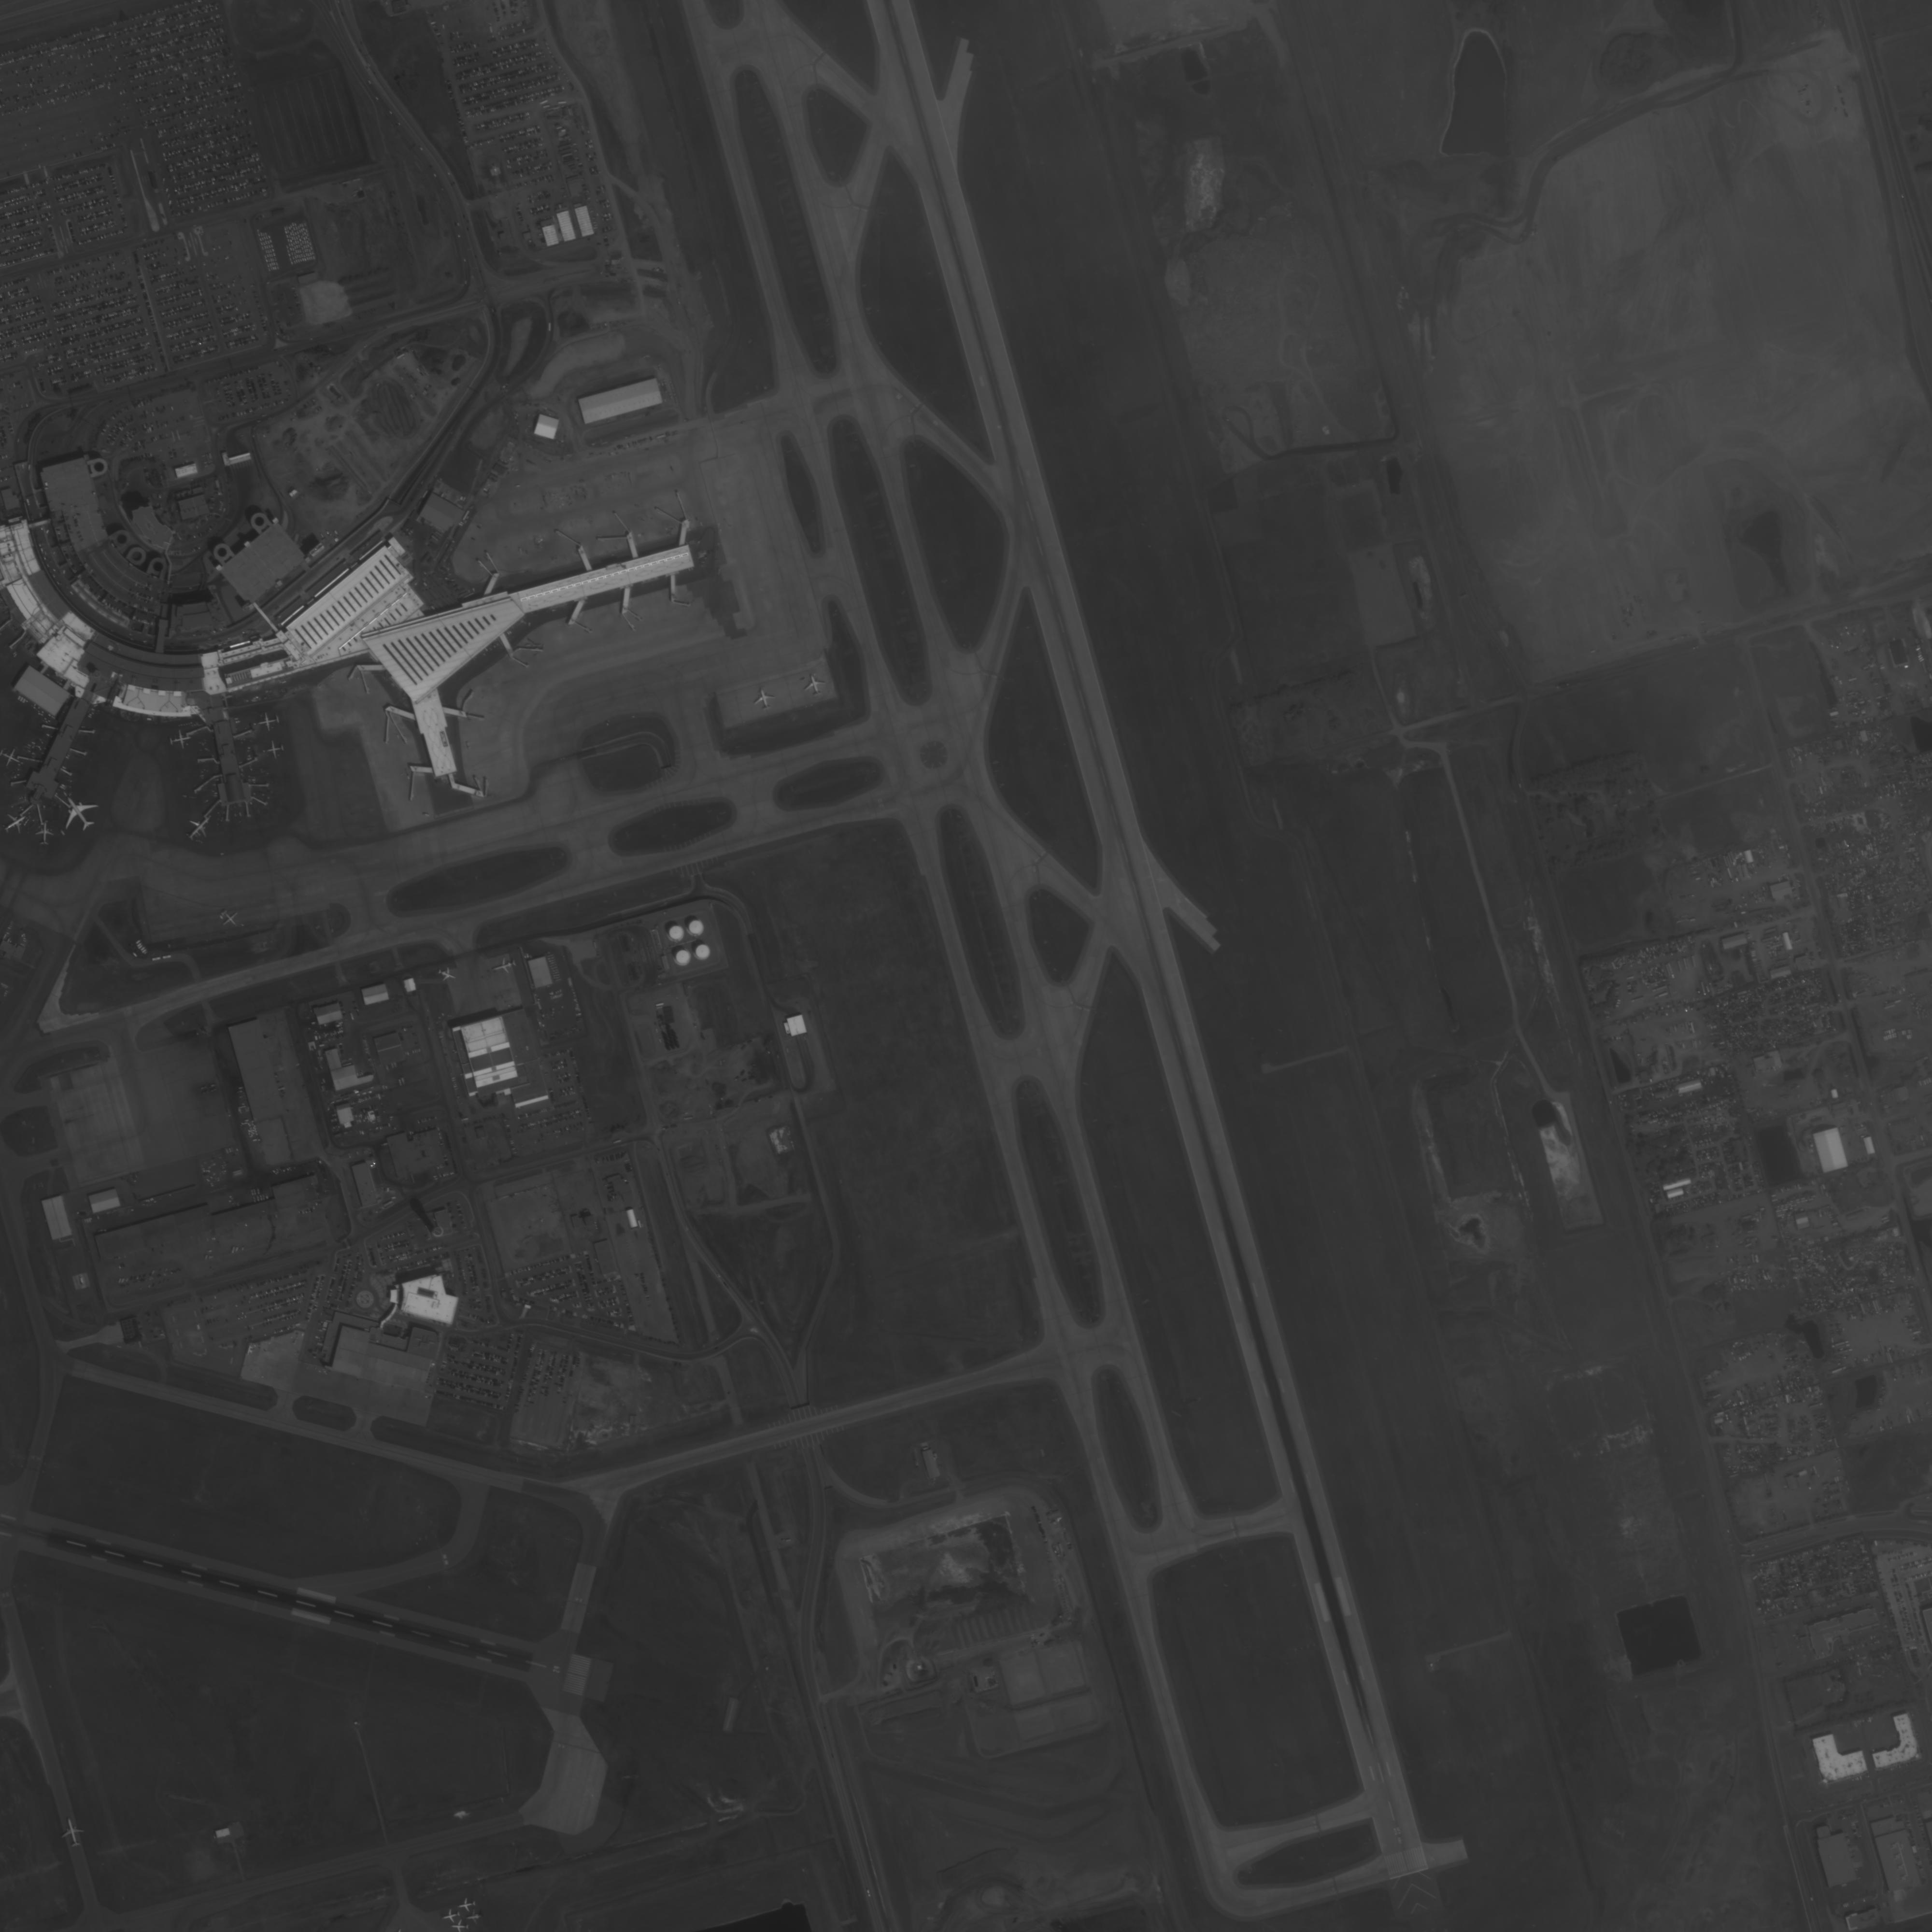plane: (50, 782, 108, 842), (179, 809, 219, 849), (53, 1810, 90, 1852), (212, 901, 248, 936), (483, 950, 522, 980), (747, 681, 780, 715), (0, 805, 32, 840), (798, 667, 830, 701), (430, 959, 464, 989), (251, 708, 285, 736), (0, 743, 27, 773), (166, 725, 193, 754), (433, 1904, 464, 1928), (258, 738, 288, 763), (34, 819, 55, 847), (455, 1893, 478, 1914), (465, 1907, 485, 1925), (451, 1920, 469, 1932)
